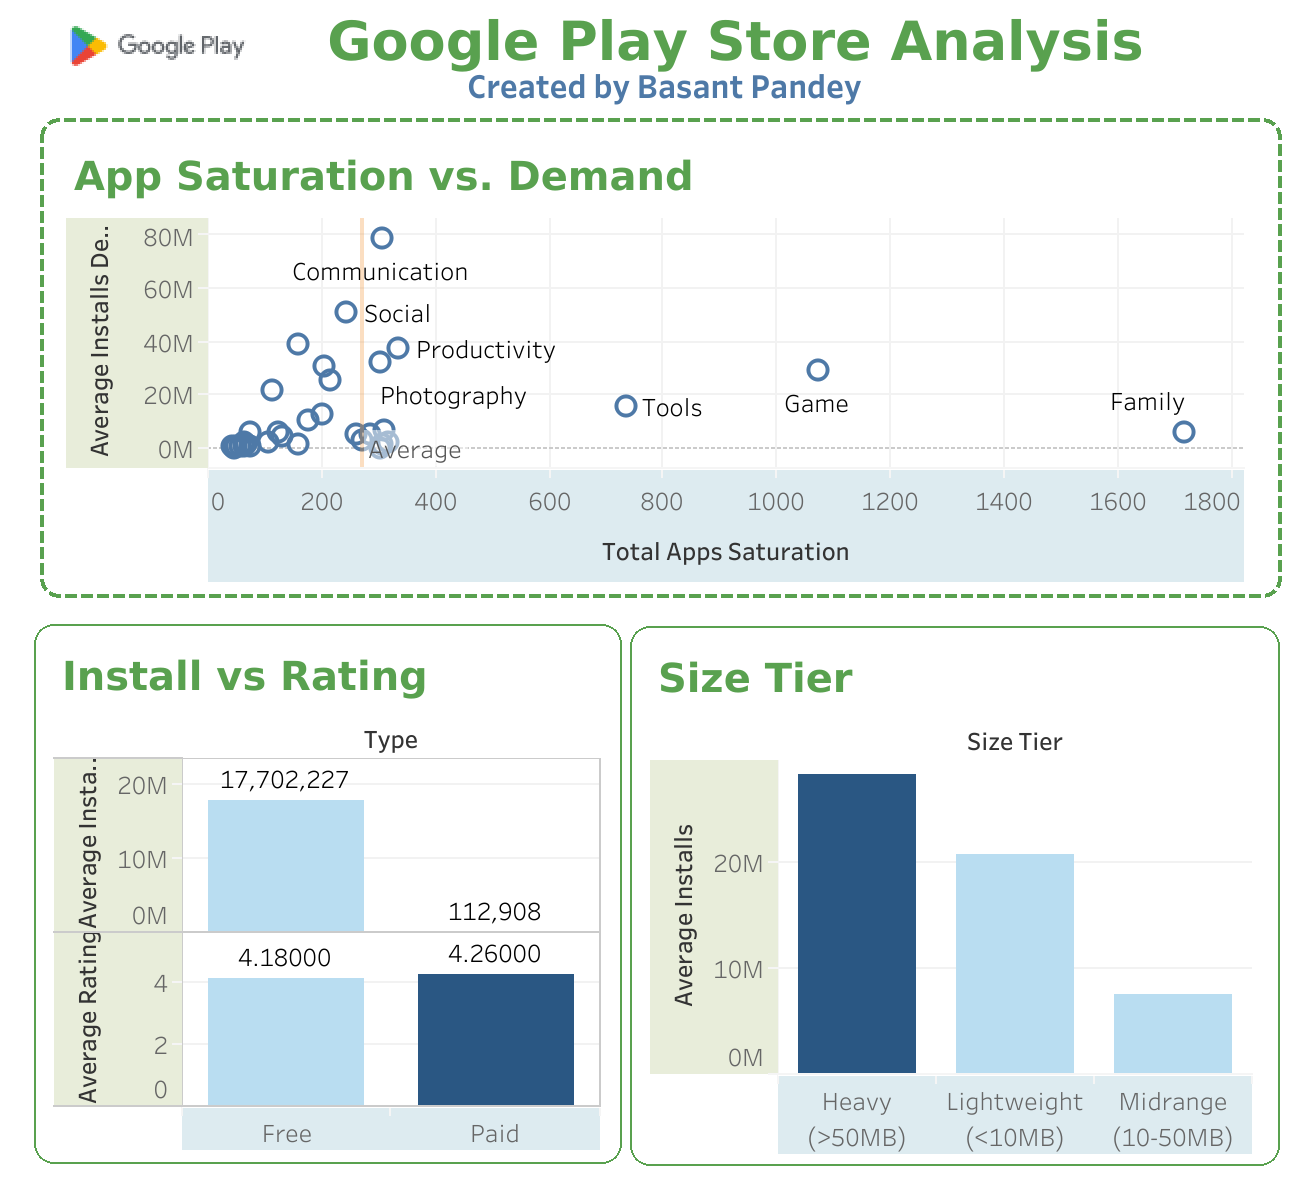

What the dashboard file says about the page in this screenshot:
{"tool":"tableau","page":{"name":"Dashboard 1","canvas":[650,860],"ordinal":0},"visuals":[{"type":"text","box":[161,8.5,440,42.5]},{"type":"text","box":[231,38.3,258,46.8]},{"type":"blank","box":[20,86.1,621,347.6]},{"type":"worksheet","title":"Saturation vs. Demand","mark":"Automatic","rows":["Avg_Installs_Demand"],"cols":["Total_Apps_Saturation"],"box":[33,102.1,589,321]},{"type":"blank","box":[17,453.9,294,391.2]},{"type":"blank","box":[315,455,325,392.3]},{"type":"worksheet","title":"Install vs Rating","mark":"Automatic","rows":["Avg_Installs","Avg_Rating"],"cols":["type"],"box":[27,464.5,274,372.1]},{"type":"worksheet","title":"Size Tier","mark":"Automatic","rows":["Avg_Installs"],"cols":["Size_Tier"],"box":[325,466.7,301,371]}]}

Visuals, with their boxes in screenshot pixels (x1, y1, x2, y2):
text: {"x1": 576, "y1": 0, "x2": 1218, "y2": 41}
text: {"x1": 678, "y1": 22, "x2": 1054, "y2": 90}
blank: {"x1": 371, "y1": 92, "x2": 1276, "y2": 599}
"Saturation vs. Demand" worksheet: {"x1": 390, "y1": 115, "x2": 1248, "y2": 583}
blank: {"x1": 366, "y1": 628, "x2": 795, "y2": 1181}
blank: {"x1": 801, "y1": 630, "x2": 1275, "y2": 1181}
"Install vs Rating" worksheet: {"x1": 381, "y1": 644, "x2": 780, "y2": 1181}
"Size Tier" worksheet: {"x1": 815, "y1": 647, "x2": 1254, "y2": 1181}
